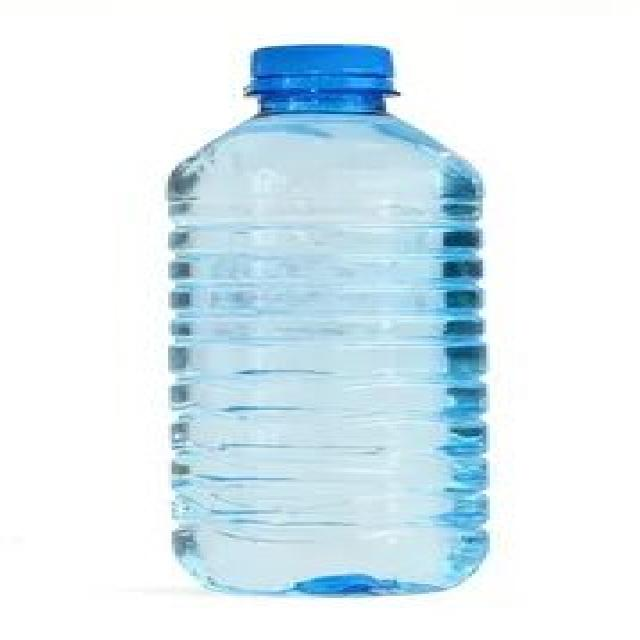blue: (164, 90, 486, 596)
